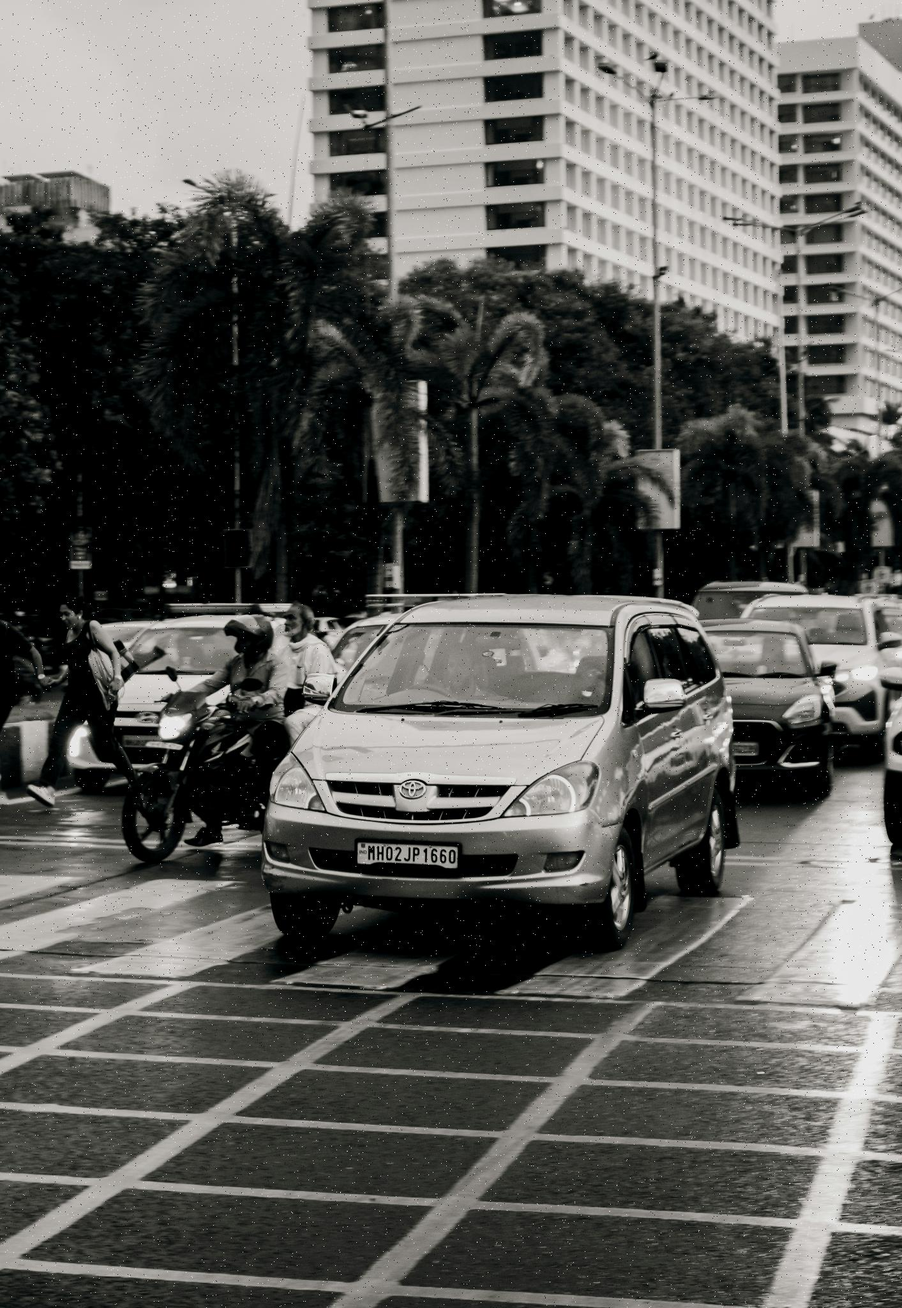car: (262, 593, 742, 955)
